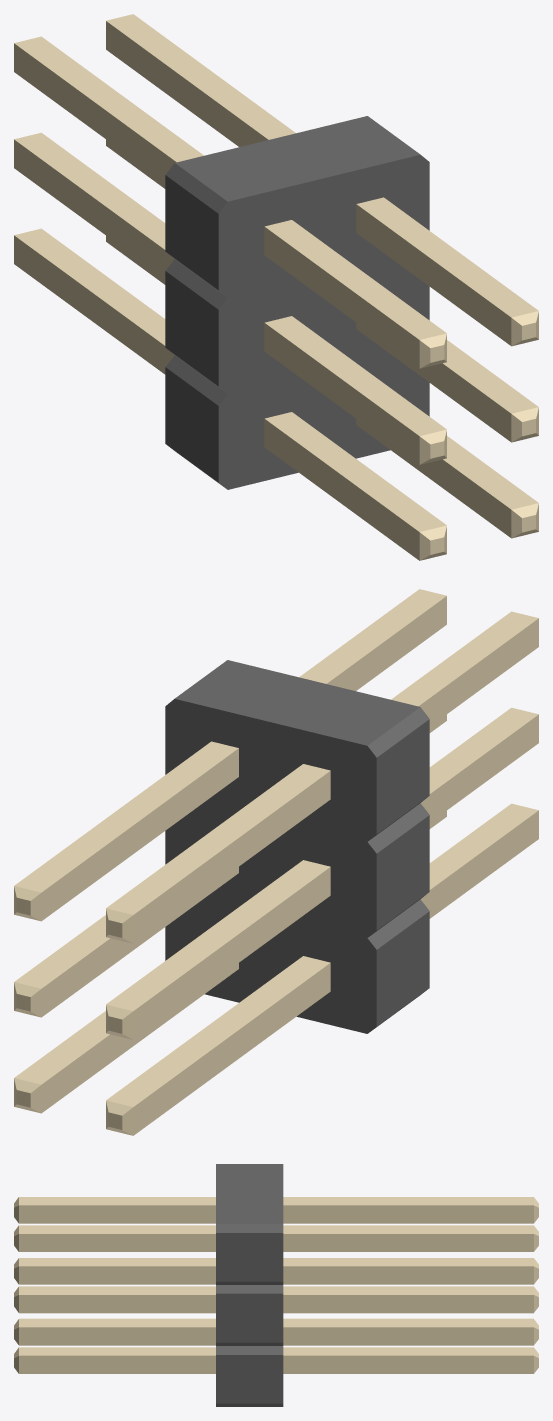
Rendered from PinHeader_2x03_P1.00mm_Vertical.glb.
3 views of the same model, one above another, from view 1: azimuth 30°, elevation 25°; view 2: azimuth 150°, elevation 25°; view 3: azimuth 270°, elevation 25° (orthographic). The views are drawn at different scales.
Parts seen in each view (by area): view 1: Shape_IndexedFaceSet.003, Shape_IndexedFaceSet.001, Shape_IndexedFaceSet.022, Shape_IndexedFaceSet.030, Shape_IndexedFaceSet.034, Shape_IndexedFaceSet.038, Shape_IndexedFaceSet.058, Shape_IndexedFaceSet.062, Shape_IndexedFaceSet.046, Shape_IndexedFaceSet.055, Shape_IndexedFaceSet.059, Shape_IndexedFaceSet.054 (+16 smaller); view 2: Shape_IndexedFaceSet.004, Shape_IndexedFaceSet.001, Shape_IndexedFaceSet.046, Shape_IndexedFaceSet.054, Shape_IndexedFaceSet.058, Shape_IndexedFaceSet.062, Shape_IndexedFaceSet.055, Shape_IndexedFaceSet.059, Shape_IndexedFaceSet.047, Shape_IndexedFaceSet.063, Shape_IndexedFaceSet.019, Shape_IndexedFaceSet.013 (+16 smaller); view 3: Shape_IndexedFaceSet.048, Shape_IndexedFaceSet.052, Shape_IndexedFaceSet.060, Shape_IndexedFaceSet.064, Shape_IndexedFaceSet.068, Shape_IndexedFaceSet.056, Shape_IndexedFaceSet.001, Shape_IndexedFaceSet.024, Shape_IndexedFaceSet.028, Shape_IndexedFaceSet.036, Shape_IndexedFaceSet.040, Shape_IndexedFaceSet.044 (+19 smaller).
Boxes of the visible parts, x1=… form: Shape_IndexedFaceSet.003: x1=218, y1=154, x2=429, y2=489; Shape_IndexedFaceSet.001: x1=175, y1=116, x2=420, y2=201; Shape_IndexedFaceSet.022: x1=264, y1=323, x2=419, y2=464; Shape_IndexedFaceSet.030: x1=356, y1=204, x2=511, y2=345; Shape_IndexedFaceSet.034: x1=264, y1=226, x2=419, y2=368; Shape_IndexedFaceSet.038: x1=264, y1=419, x2=419, y2=560; Shape_IndexedFaceSet.058: x1=14, y1=43, x2=176, y2=182; Shape_IndexedFaceSet.062: x1=14, y1=235, x2=174, y2=374; Shape_IndexedFaceSet.046: x1=14, y1=139, x2=174, y2=278; Shape_IndexedFaceSet.055: x1=106, y1=14, x2=295, y2=139; Shape_IndexedFaceSet.059: x1=14, y1=36, x2=203, y2=162; Shape_IndexedFaceSet.054: x1=106, y1=21, x2=268, y2=146; Shape_IndexedFaceSet.004: x1=165, y1=698, x2=376, y2=1033; Shape_IndexedFaceSet.001: x1=175, y1=660, x2=419, y2=745; Shape_IndexedFaceSet.046: x1=133, y1=867, x2=330, y2=1039; Shape_IndexedFaceSet.054: x1=41, y1=748, x2=238, y2=920; Shape_IndexedFaceSet.058: x1=133, y1=771, x2=330, y2=943; Shape_IndexedFaceSet.062: x1=133, y1=963, x2=330, y2=1135; Shape_IndexedFaceSet.055: x1=14, y1=741, x2=238, y2=892; Shape_IndexedFaceSet.059: x1=106, y1=764, x2=330, y2=914; Shape_IndexedFaceSet.047: x1=106, y1=860, x2=330, y2=1011; Shape_IndexedFaceSet.063: x1=106, y1=956, x2=330, y2=1106; Shape_IndexedFaceSet.019: x1=376, y1=911, x2=429, y2=1026; Shape_IndexedFaceSet.013: x1=376, y1=815, x2=429, y2=930; Shape_IndexedFaceSet.048: x1=283, y1=1266, x2=533, y2=1284; Shape_IndexedFaceSet.052: x1=283, y1=1295, x2=533, y2=1313; Shape_IndexedFaceSet.060: x1=283, y1=1205, x2=533, y2=1223; Shape_IndexedFaceSet.064: x1=283, y1=1327, x2=533, y2=1345; Shape_IndexedFaceSet.068: x1=283, y1=1355, x2=533, y2=1373; Shape_IndexedFaceSet.056: x1=283, y1=1234, x2=533, y2=1251; Shape_IndexedFaceSet.001: x1=216, y1=1164, x2=283, y2=1223; Shape_IndexedFaceSet.024: x1=19, y1=1266, x2=215, y2=1284; Shape_IndexedFaceSet.028: x1=19, y1=1295, x2=215, y2=1313; Shape_IndexedFaceSet.036: x1=19, y1=1205, x2=215, y2=1223; Shape_IndexedFaceSet.040: x1=19, y1=1327, x2=215, y2=1345; Shape_IndexedFaceSet.044: x1=19, y1=1355, x2=215, y2=1373.
Size of the model in its own units: 0.906 by 1.18 by 3.07.
